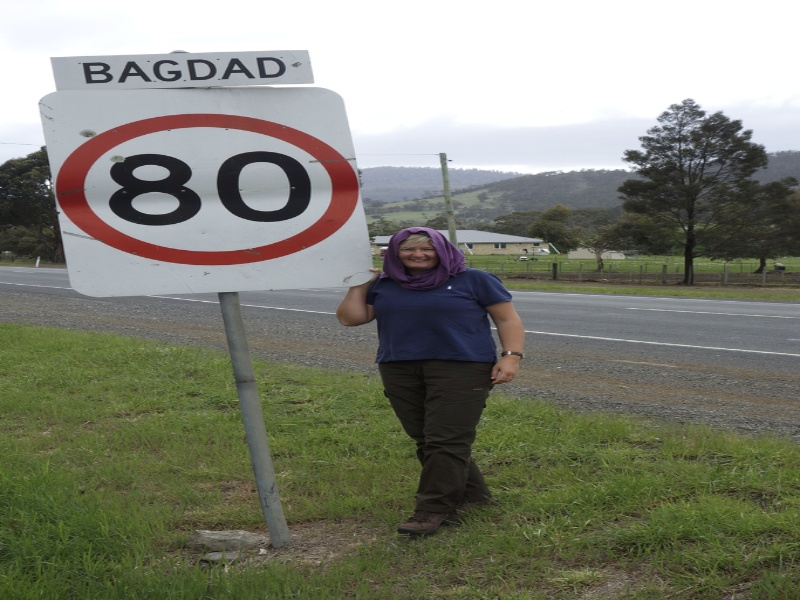speed_limit_80: (37, 99, 359, 314)
